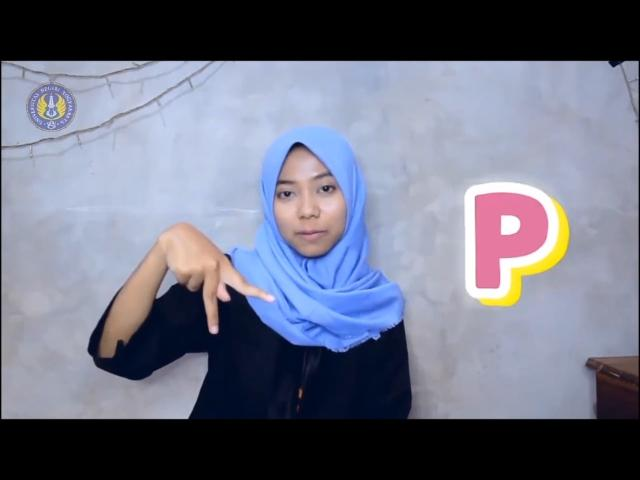P: (158, 221, 282, 336)
